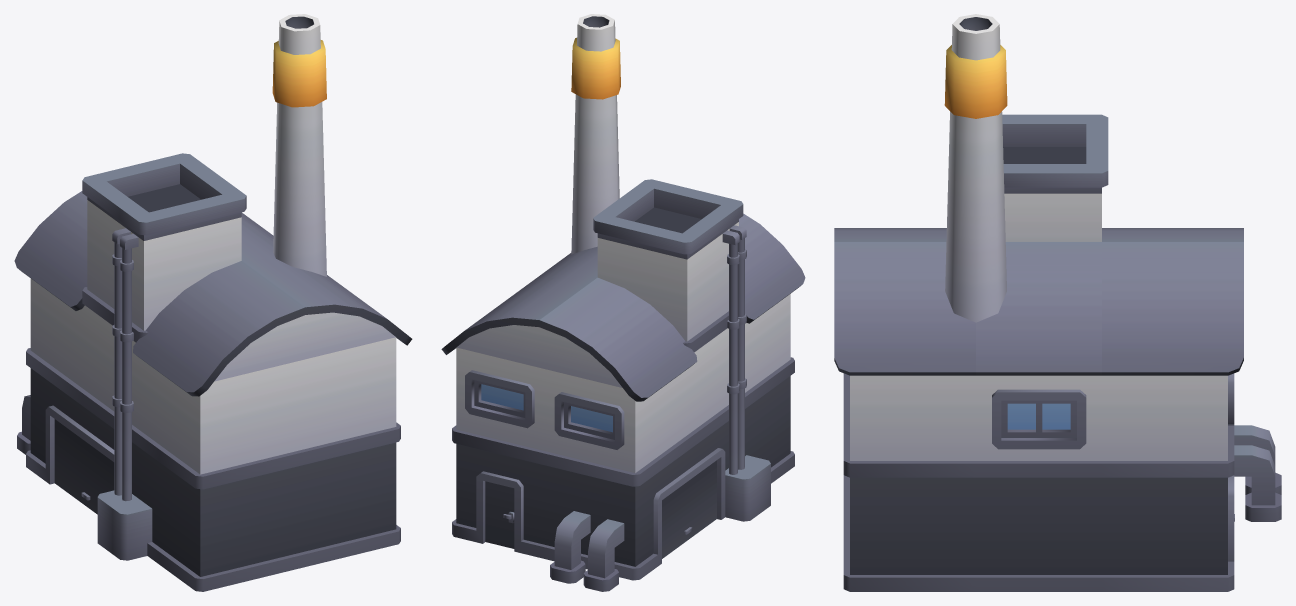
Rendered from k-city-kit-industrial-building-n.glb.
3 renders of one model, left to right at view 1: azimuth 30°, elevation 25°; view 2: azimuth 150°, elevation 25°; view 3: azimuth 270°, elevation 25°, orthographic. The views are drawn at different scales.
Visible parts, largest first — view 1: building-n; view 2: building-n; view 3: building-n.
Part boxes in pixels (x1=…): building-n: x1=14, y1=14, x2=412, y2=591; building-n: x1=441, y1=14, x2=805, y2=591; building-n: x1=834, y1=14, x2=1281, y2=591.
Bounding box in the file's own units: 0.9766 × 1.9 × 1.42.
Materials: 1 (1 with a texture image).
